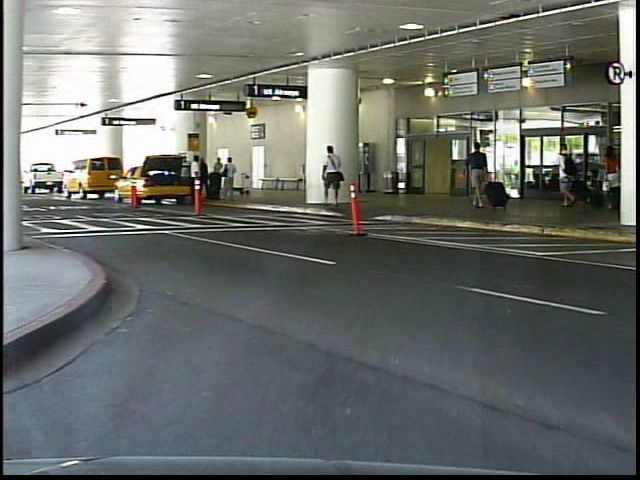person: (551, 138, 588, 218), (597, 133, 626, 218), (465, 138, 495, 214), (320, 144, 351, 210)
